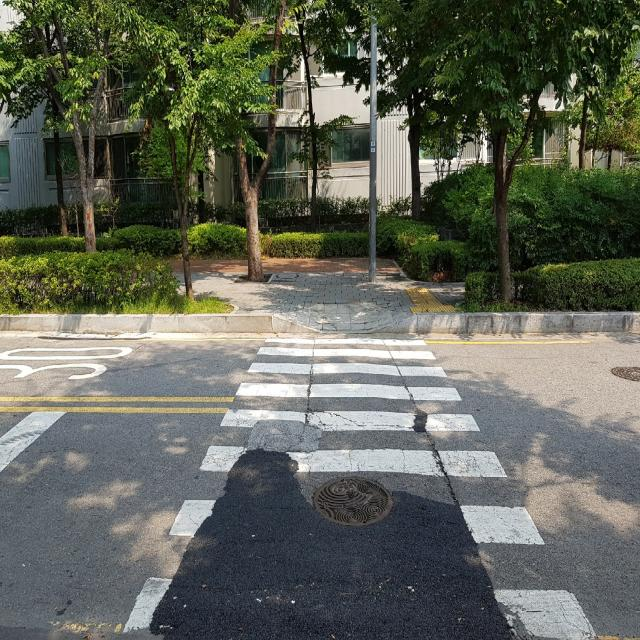횡단보도: (122, 337, 597, 640)
